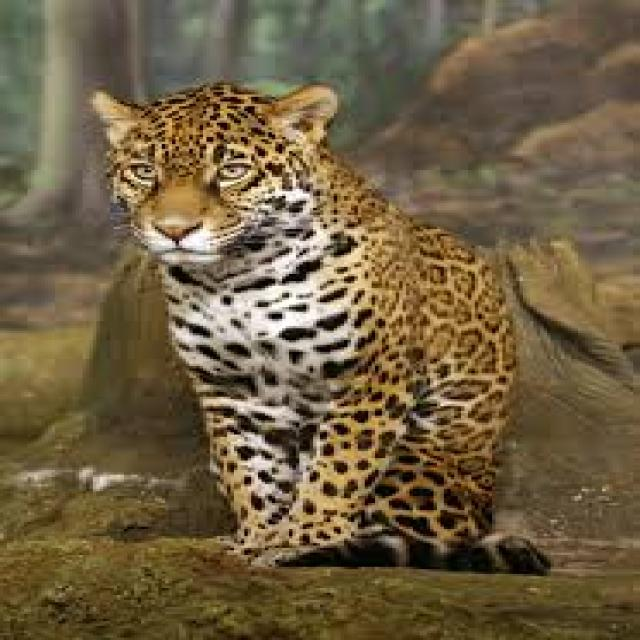Jaguar: (103, 71, 530, 567)
